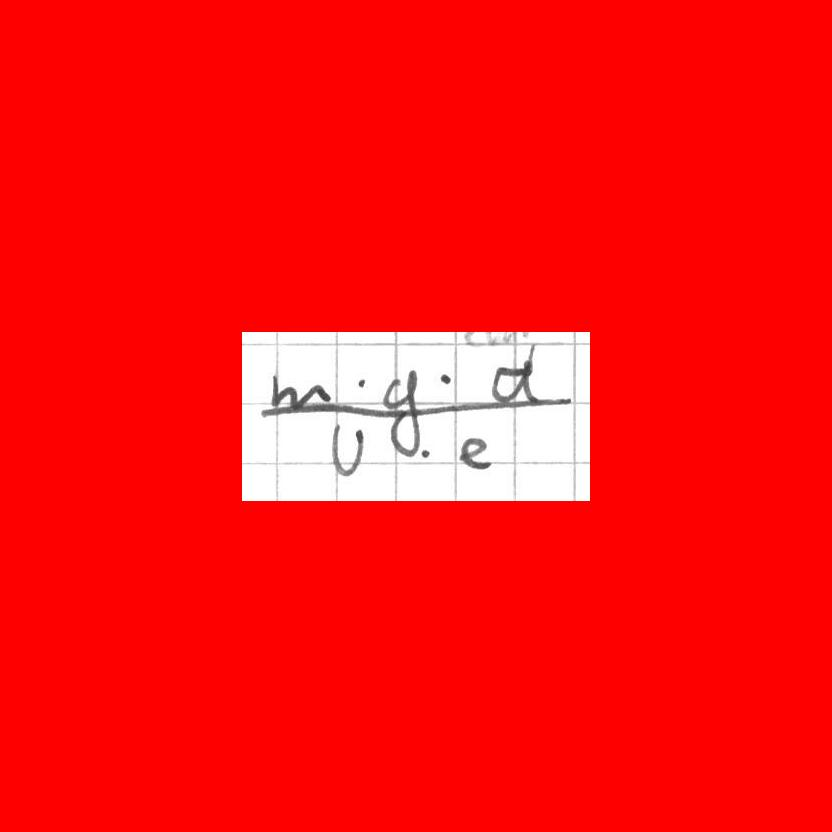Char: (254, 398, 571, 419), (382, 364, 424, 457), (486, 357, 550, 412), (327, 418, 374, 478), (267, 371, 334, 411), (449, 431, 496, 475), (352, 370, 376, 399), (416, 437, 437, 464), (434, 364, 454, 388)
